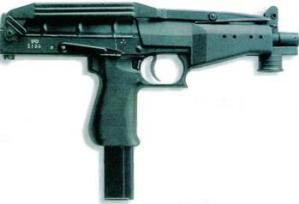rifle: (3, 1, 295, 191)
